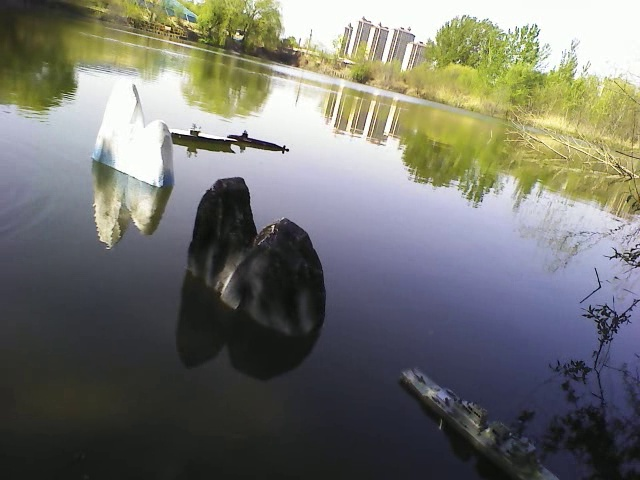aircraft_carrier: (168, 121, 237, 154)
iceberg: (90, 78, 181, 188)
rock: (187, 175, 329, 341)
submarine: (230, 131, 296, 159)
warship: (400, 363, 566, 478)
